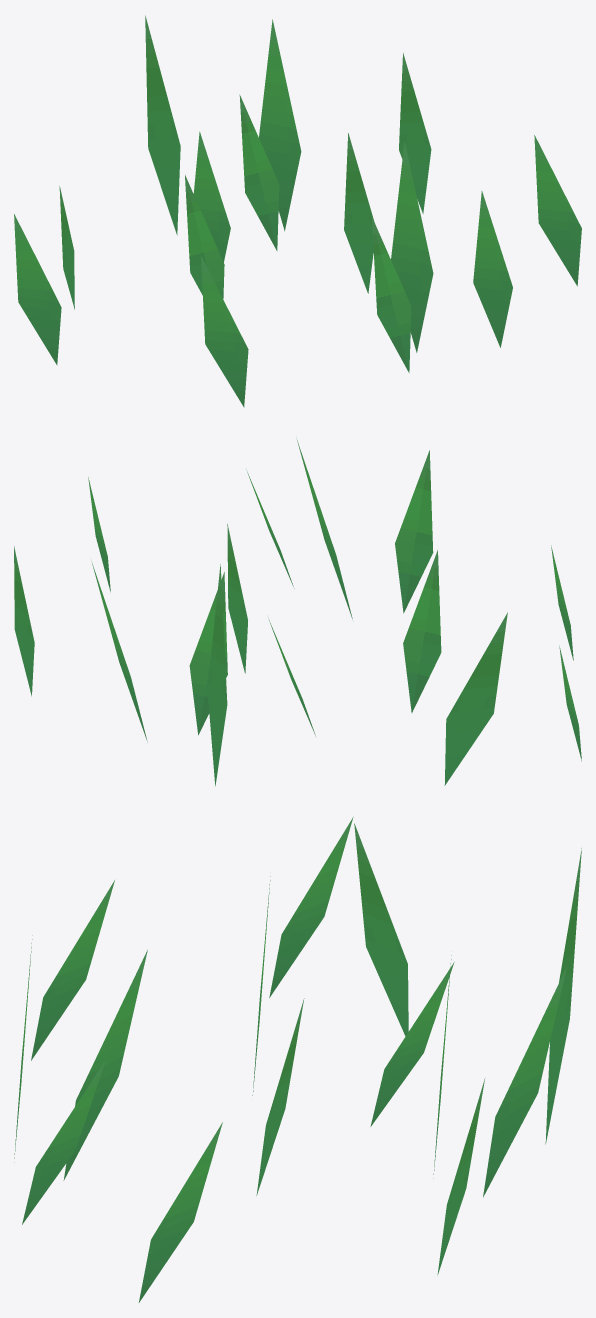
File: objects_un_c01main_grass01.gltf
3 views of the same model, one above another, from view 1: azimuth 30°, elevation 25°; view 2: azimuth 150°, elevation 25°; view 3: azimuth 270°, elevation 25° (orthographic). The views are drawn at different scales.
Visible parts, largest first — view 1: um_objects_un_c01main_grass01_model_objects_un_c01main_grass; view 2: um_objects_un_c01main_grass01_model_objects_un_c01main_grass; view 3: um_objects_un_c01main_grass01_model_objects_un_c01main_grass.
Part boxes in pixels (<box>): um_objects_un_c01main_grass01_model_objects_un_c01main_grass: <box>14,15,581,407</box>; um_objects_un_c01main_grass01_model_objects_un_c01main_grass: <box>14,440,581,786</box>; um_objects_un_c01main_grass01_model_objects_un_c01main_grass: <box>14,817,581,1302</box>.
Size of the model in its own units: 0.8156 by 0.3383 by 0.6067.
1 material, 1 textured.
